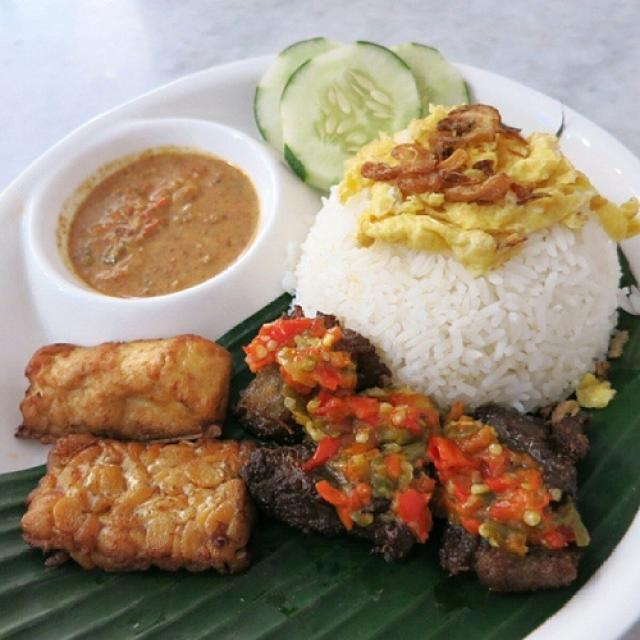米饭主食: (37, 26, 613, 599)
